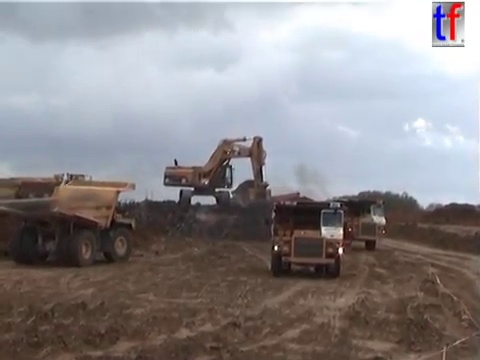excavator: (160, 134, 274, 212), (239, 190, 318, 219)
truck: (1, 177, 138, 269), (264, 199, 348, 278), (289, 197, 387, 250), (14, 169, 95, 201)
